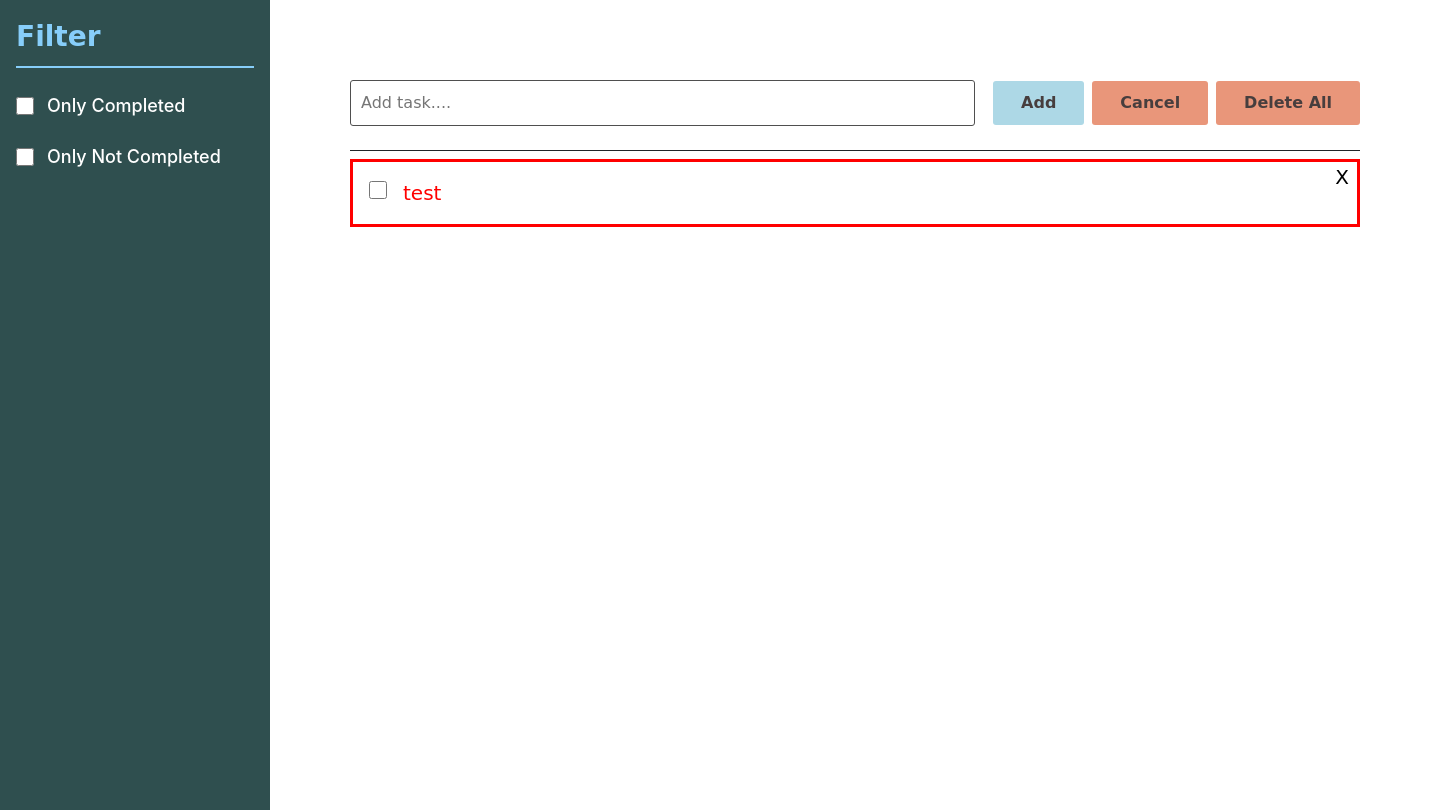
it: Testing Main Page ToDo › Btn Delete All
Expected: the text "test" is shown, [403,178,441,208]
Click the text "Delete All": (1288, 103) [1216,81,1360,125]
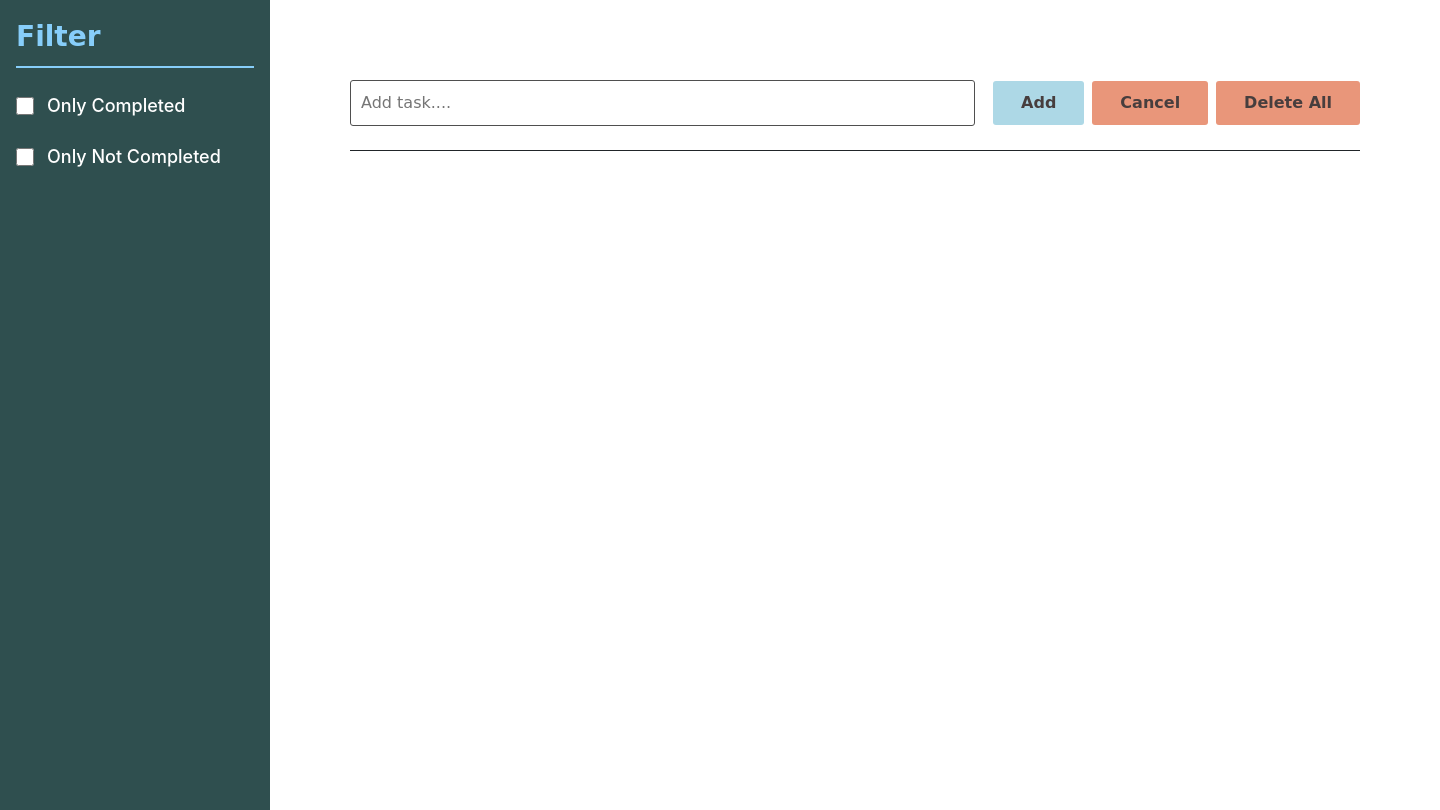
Expected: the text "test" is gone
